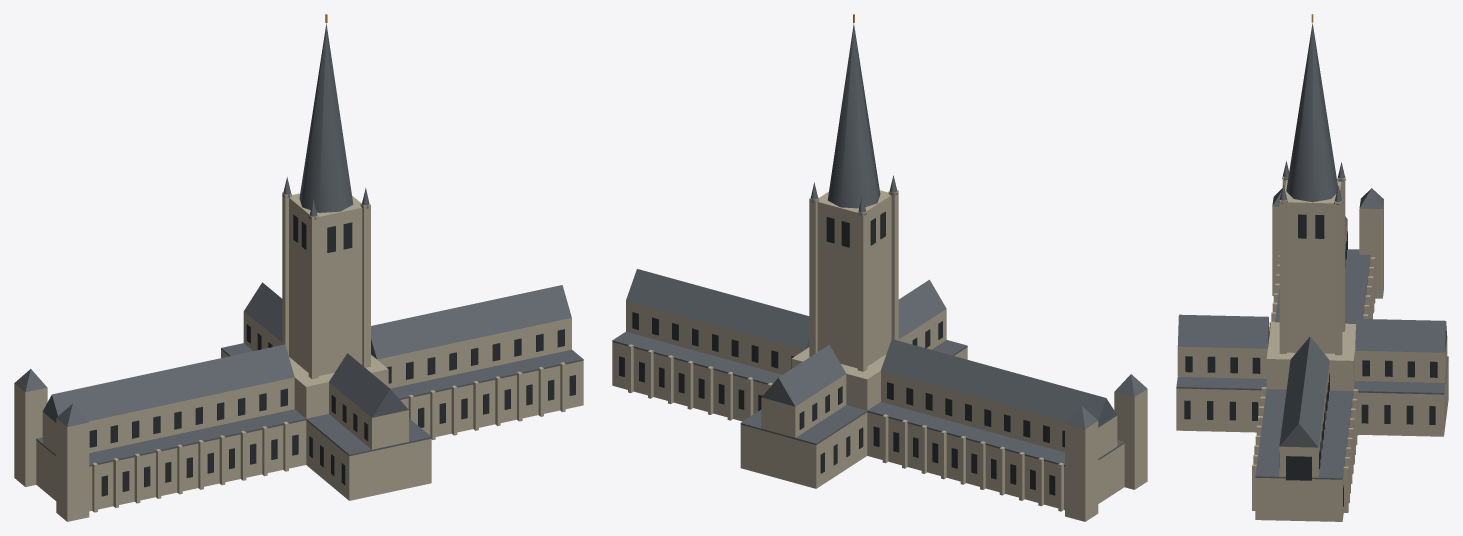
File: st-pauls-site-b25.glb
3 renders of one model, left to right at view 1: azimuth 30°, elevation 25°; view 2: azimuth 150°, elevation 25°; view 3: azimuth 270°, elevation 25°, orthographic. The views are drawn at different scales.
Size of the model in its own units: 192 by 152 by 93.49.
